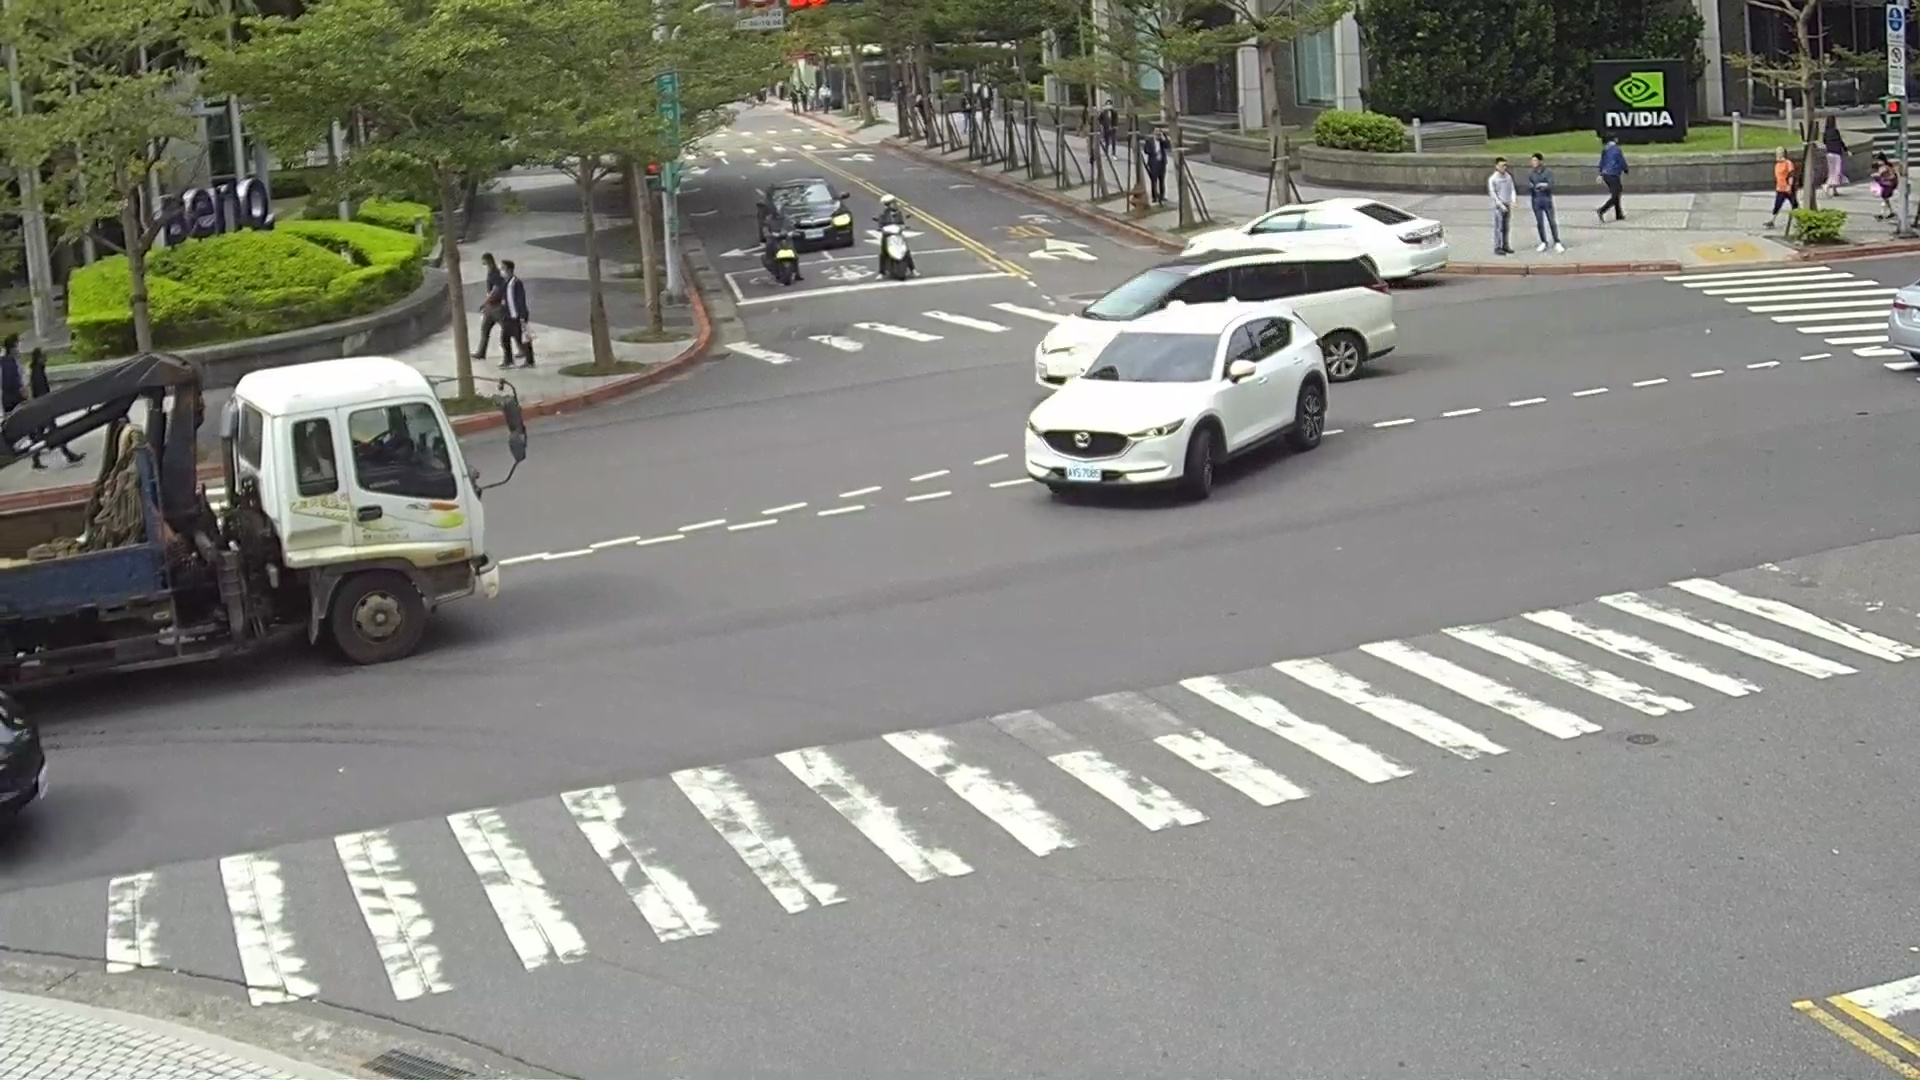bike: (874, 223, 915, 280), (767, 234, 802, 285)
pedestrian: (1522, 150, 1566, 252), (473, 252, 514, 362), (498, 261, 540, 365), (1594, 133, 1629, 222), (1487, 158, 1518, 254), (1768, 145, 1796, 229), (758, 200, 793, 265), (1, 333, 28, 415), (1872, 154, 1901, 223), (1822, 113, 1847, 191), (874, 195, 906, 239), (28, 346, 50, 401)
vehicle: (1, 348, 514, 735), (1023, 301, 1332, 502), (1051, 245, 1395, 385), (1187, 198, 1455, 280), (1, 662, 47, 849), (754, 175, 852, 255), (1885, 255, 1920, 383)
